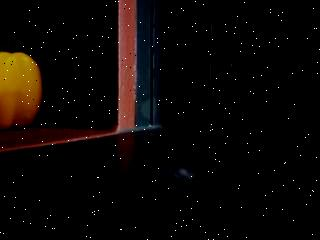Capsicum: (0, 44, 44, 133)
